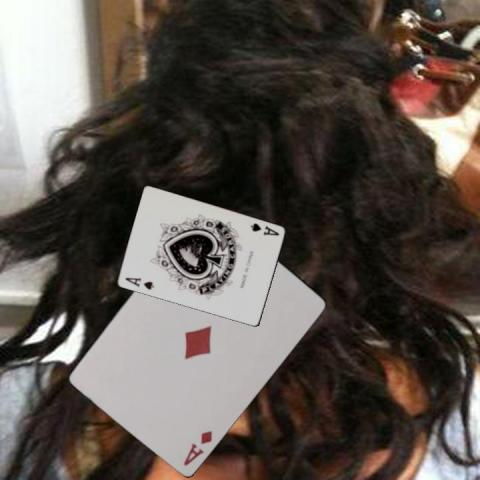Ad: (180, 426, 214, 466)
As: (248, 220, 281, 237), (123, 274, 156, 290)
